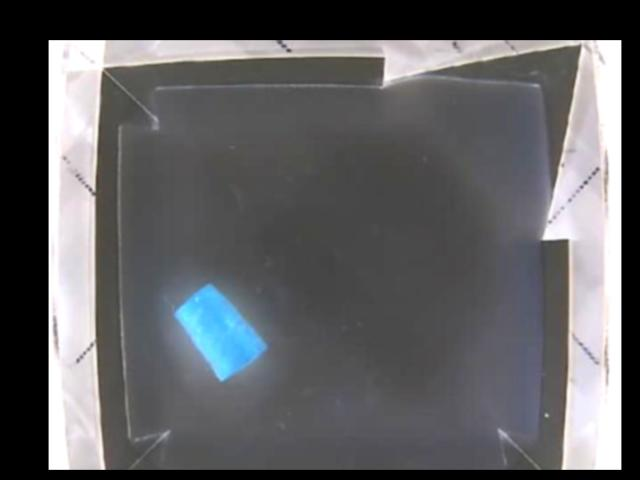Carrot: (175, 282, 268, 382)
